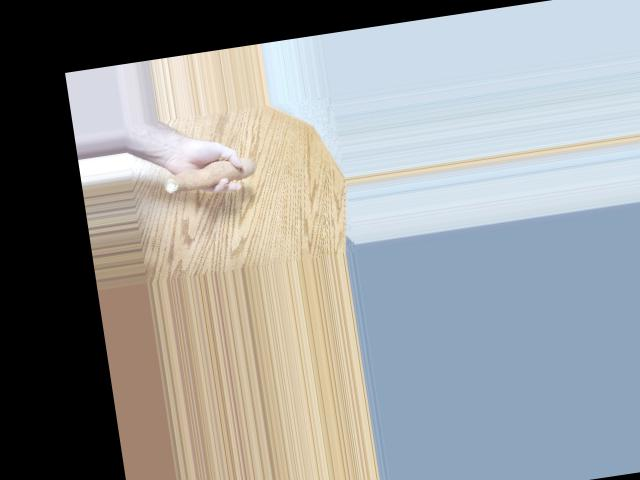sweet_potato: (159, 159, 263, 198)
